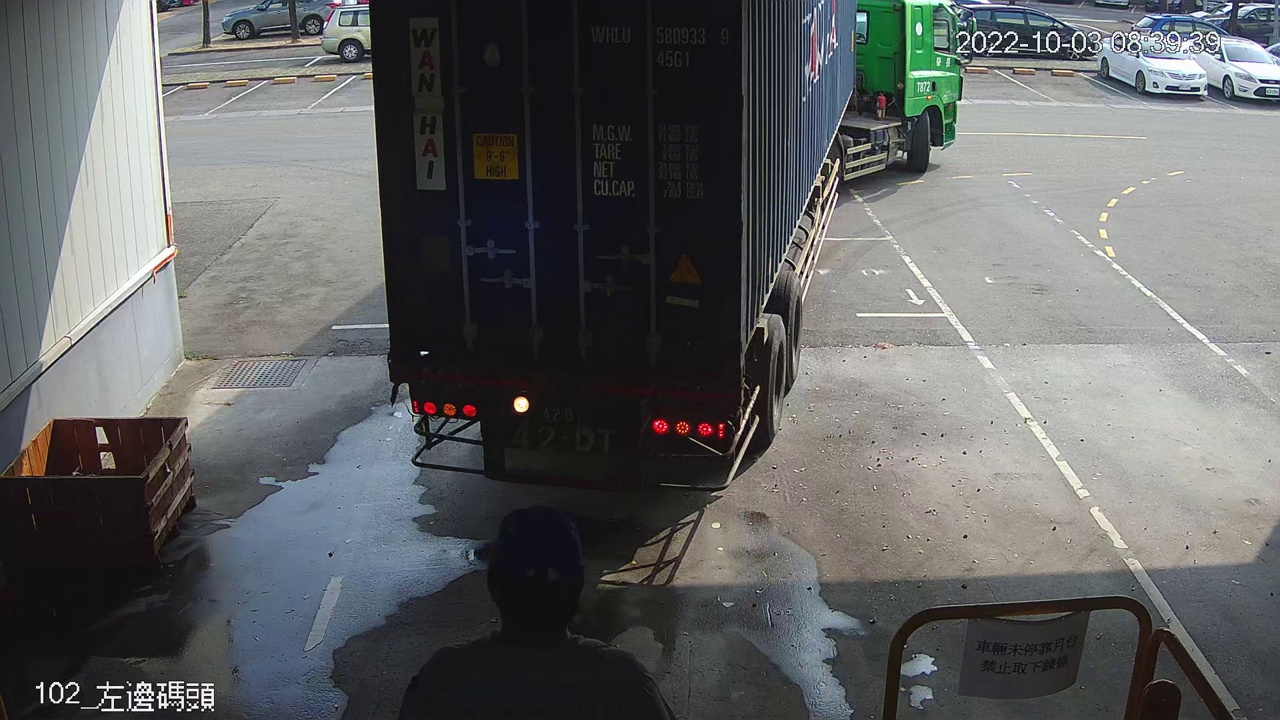container: (584, 18, 736, 73)
